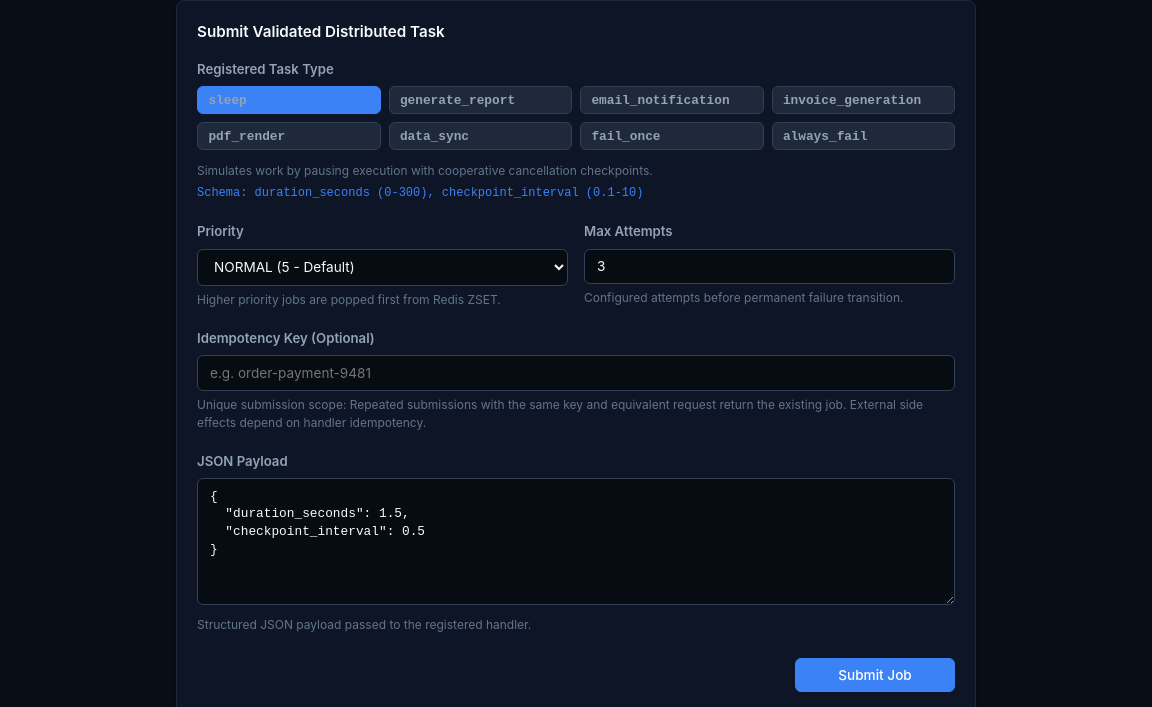
JobSubmit Flow › displays 422 API validation error when unsupported task type is rejected by server
Click the button "Submit Job".
click(875, 674)  # box [795,658,955,692]
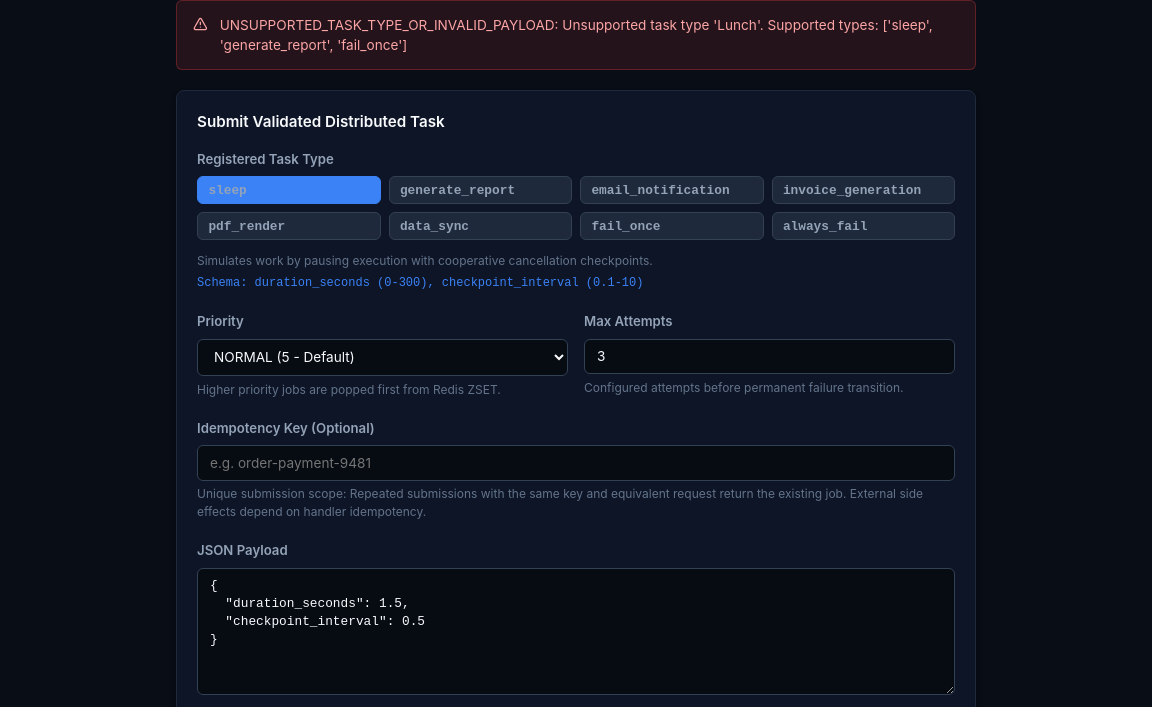
Now the text "Unsupported task type 'Lunch'" is shown, box [220,17,933,53]
